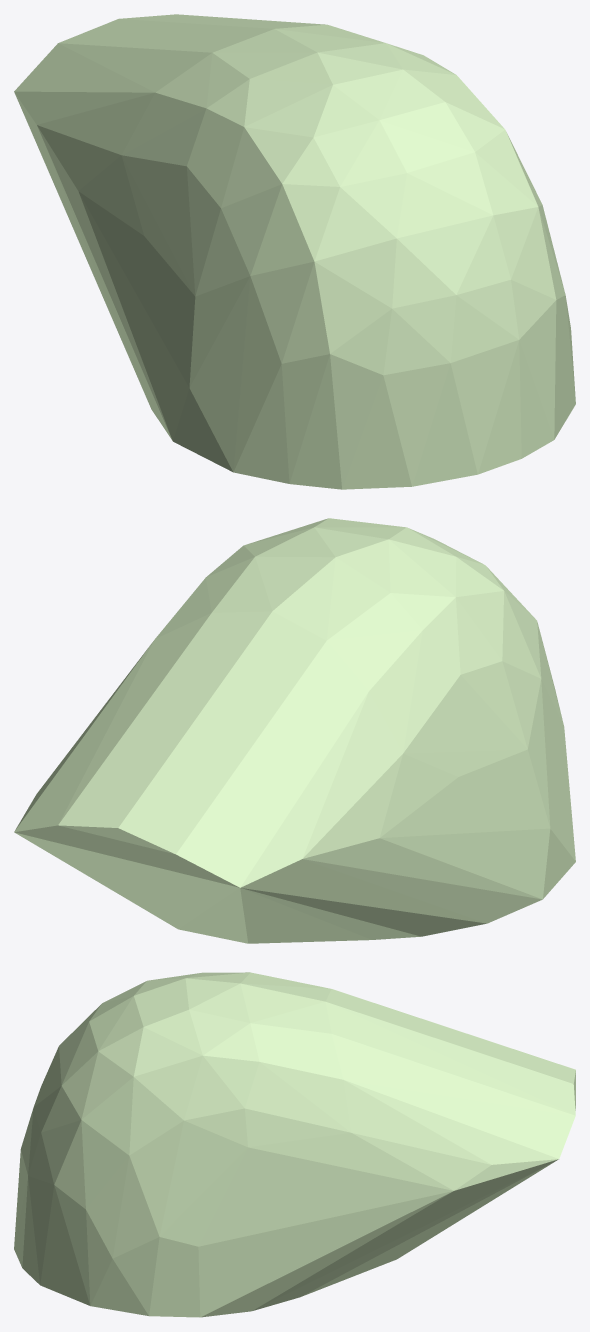
The model's file is kuka_URDF_link4_resp_coll_2.dae.
The picture shows the model from 3 angles, top to bottom: view 1: azimuth 30°, elevation 25°; view 2: azimuth 150°, elevation 25°; view 3: azimuth 270°, elevation 25°; orthographic projection. The views are drawn at different scales.
Parts seen in each view (by area): view 1: Node_0000020FCC590AE0; view 2: Node_0000020FCC590AE0; view 3: Node_0000020FCC590AE0.
Part boxes in pixels (x1=…): Node_0000020FCC590AE0: x1=14, y1=14, x2=575, y2=489; Node_0000020FCC590AE0: x1=14, y1=518, x2=575, y2=943; Node_0000020FCC590AE0: x1=14, y1=972, x2=575, y2=1317.
Size of the model in its own units: 0.1366 by 0.1141 by 0.2247.
